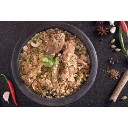briyani: (23, 33, 87, 93)
